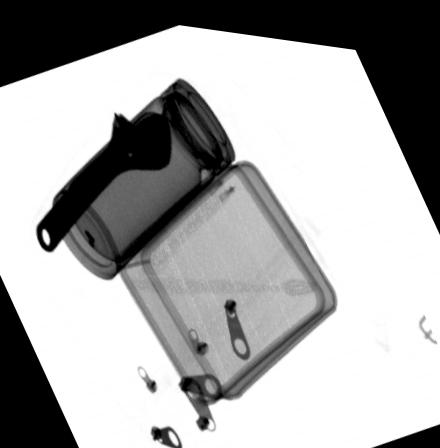Wrench: (33, 105, 172, 252)
